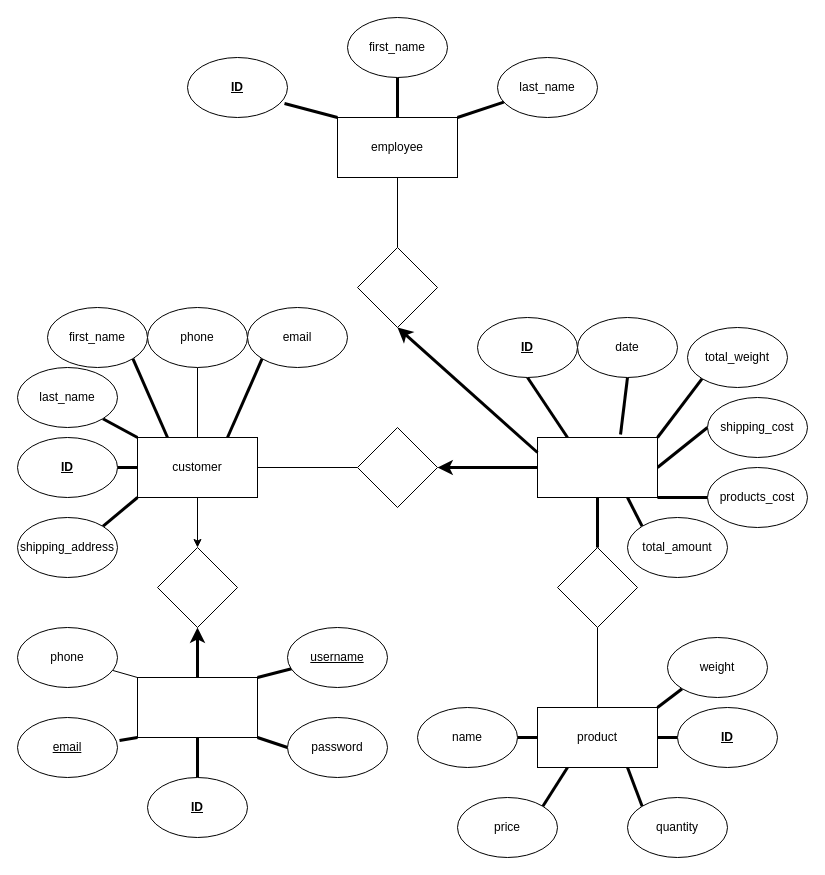
Image size: 825x875. Some labels were removed from this diagram. Here are the shapes that lost their labels. From the top down, the centre of each, then its label:
At pixel 397 287: "fulfilled_by".
At pixel 397 467: "places".
At pixel 597 467: "order".
At pixel 197 587: "has".
At pixel 597 587: "contains".
At pixel 197 707: "account".
